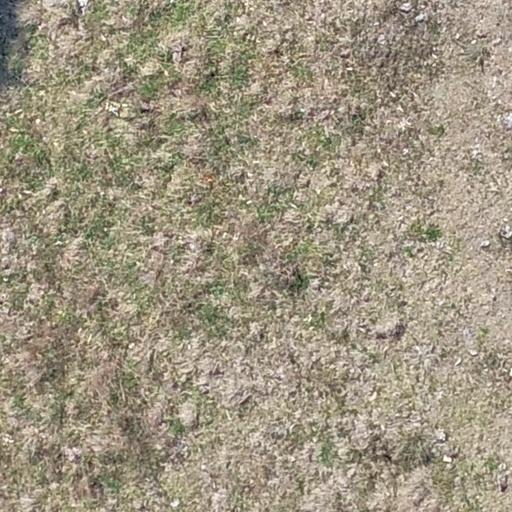stone: (396, 1, 417, 15), (498, 222, 512, 240), (439, 454, 456, 465), (414, 11, 428, 23), (477, 238, 492, 249), (434, 239, 447, 251), (2, 433, 15, 445), (436, 430, 448, 442), (471, 148, 483, 160), (368, 390, 378, 402), (490, 37, 502, 46), (454, 357, 462, 367), (469, 348, 478, 356)
